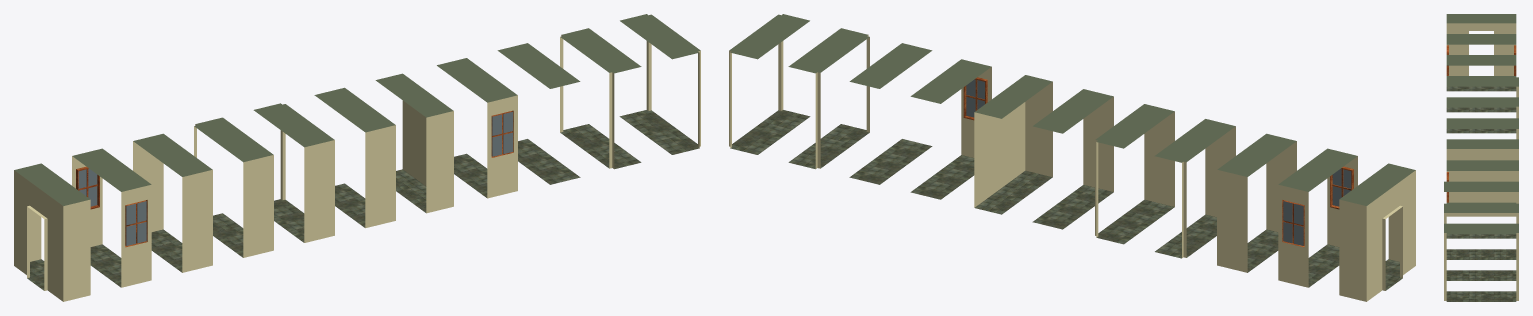
Rendered from corridorLibrary.glb.
3 renders of one model, left to right at view 1: azimuth 30°, elevation 25°; view 2: azimuth 150°, elevation 25°; view 3: azimuth 270°, elevation 25°, orthographic. The views are drawn at different scales.
Parts seen in each view (by area): view 1: Door-col, Straight_Windows-col, Straight-col, Turn-col, CornerM-col, Corner-col, OneWall_Window-col, OneWall-col, TwoCorner-col, TwoCornerM-col, Open-col; view 2: Turn-col, Door-col, Straight_Windows-col, Straight-col, CornerM-col, OneWall-col, Corner-col, OneWall_Window-col, TwoCorner-col, TwoCornerM-col, Open-col; view 3: Turn-col, Door-col, TwoCornerM-col, TwoCorner-col, Open-col, Straight_Windows-col, OneWall_Window-col, Straight-col, CornerM-col, Corner-col, OneWall-col.
Boxes of the visible parts, bbox=[...] form: Door-col: bbox=[14, 163, 90, 301]; Straight_Windows-col: bbox=[72, 148, 151, 287]; Straight-col: bbox=[133, 133, 212, 272]; Turn-col: bbox=[375, 73, 453, 213]; CornerM-col: bbox=[253, 103, 334, 242]; Corner-col: bbox=[194, 117, 273, 257]; OneWall_Window-col: bbox=[437, 58, 517, 198]; OneWall-col: bbox=[314, 87, 395, 228]; TwoCorner-col: bbox=[560, 28, 641, 169]; TwoCornerM-col: bbox=[619, 14, 700, 154]; Open-col: bbox=[497, 43, 580, 184]; Turn-col: bbox=[974, 75, 1052, 214]; Door-col: bbox=[1339, 163, 1415, 301]; Straight_Windows-col: bbox=[1278, 148, 1357, 287]; Straight-col: bbox=[1217, 133, 1296, 272]; CornerM-col: bbox=[1095, 104, 1174, 244]; OneWall-col: bbox=[1032, 89, 1113, 229]; Corner-col: bbox=[1154, 119, 1235, 258]; OneWall_Window-col: bbox=[910, 59, 991, 199]; TwoCorner-col: bbox=[788, 28, 869, 169]; TwoCornerM-col: bbox=[729, 14, 810, 154]; Open-col: bbox=[849, 43, 932, 184]; Turn-col: bbox=[1446, 139, 1518, 216]; Door-col: bbox=[1446, 14, 1516, 91]; TwoCornerM-col: bbox=[1444, 223, 1518, 301]; TwoCorner-col: bbox=[1444, 202, 1518, 280]; Open-col: bbox=[1444, 181, 1518, 259]; Straight_Windows-col: bbox=[1446, 34, 1516, 112]; OneWall_Window-col: bbox=[1446, 160, 1518, 238]; Straight-col: bbox=[1446, 55, 1516, 133]; CornerM-col: bbox=[1446, 97, 1518, 139]; Corner-col: bbox=[1446, 76, 1518, 97]; OneWall-col: bbox=[1446, 118, 1518, 128].
Size of the model in its own units: 21 by 3 by 3.
Materials: 4 (2 with a texture image).
